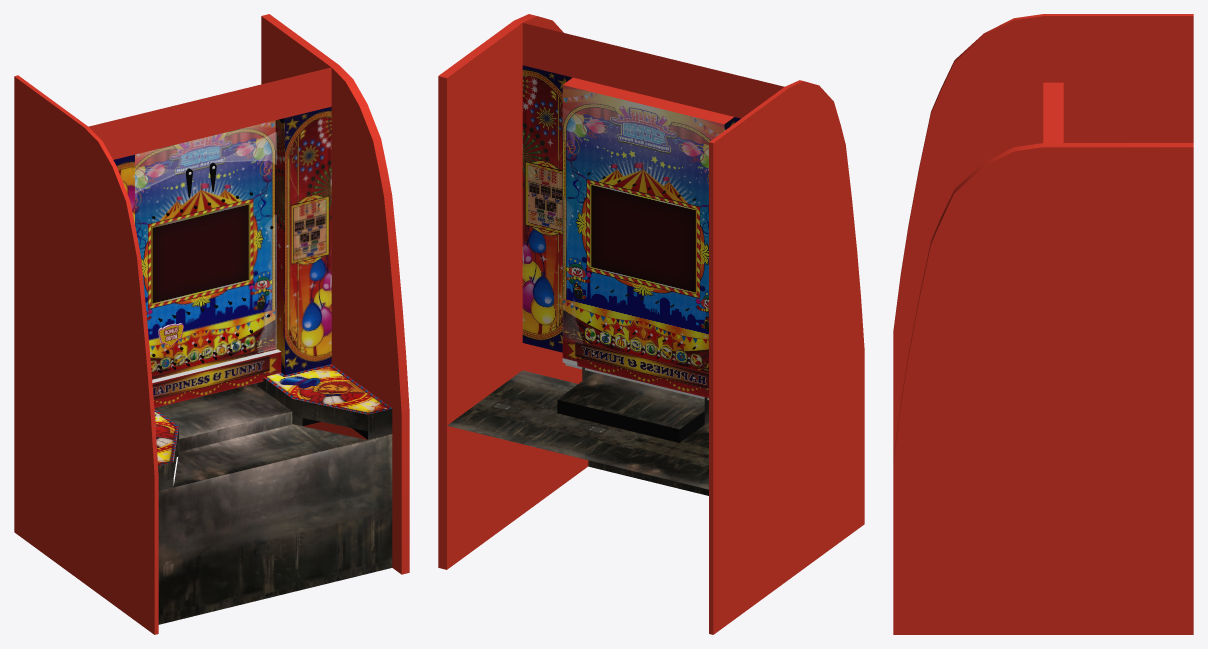
Rendered from pusher.glb.
The picture shows the model from 3 angles, left to right: view 1: azimuth 30°, elevation 25°; view 2: azimuth 150°, elevation 25°; view 3: azimuth 270°, elevation 25°; orthographic projection. The views are drawn at different scales.
Visible parts, largest first — view 1: tbj_r_2, tbj_head, tbj_bodily, tbj_r, r_coin_outlet2, pallet1, happiness, l_coin_outlet2, bezel_r, slipway_r, slipway_l; view 2: tbj_head, tbj_r_2, tbj_r, tbj_bodily, pallet1, bezel_r; view 3: tbj_r, tbj_r_2, tbj_head.
Boxes of the visible parts, x1,y1,x2,y2 form: tbj_r_2: (14, 75, 158, 634); tbj_head: (89, 16, 331, 379); tbj_bodily: (158, 383, 392, 624); tbj_r: (261, 14, 409, 574); r_coin_outlet2: (257, 364, 392, 439); pallet1: (154, 384, 292, 451); happiness: (152, 349, 281, 407); l_coin_outlet2: (154, 408, 178, 490); bezel_r: (257, 215, 276, 352); slipway_r: (218, 132, 276, 164); slipway_l: (135, 169, 183, 192); tbj_head: (447, 23, 784, 397); tbj_r_2: (709, 80, 864, 634); tbj_r: (438, 14, 588, 569); tbj_bodily: (447, 370, 708, 495); pallet1: (557, 372, 704, 442); bezel_r: (563, 197, 582, 343); tbj_r: (893, 143, 1193, 634); tbj_r_2: (893, 14, 1193, 458); tbj_head: (1043, 16, 1193, 142).
Bounding box in the file's own units: 63 × 108 × 60.
19 materials, 13 textured.
